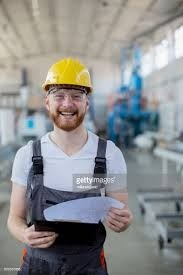helmet: (39, 54, 96, 95)
person with partial safety: (6, 54, 133, 274)
